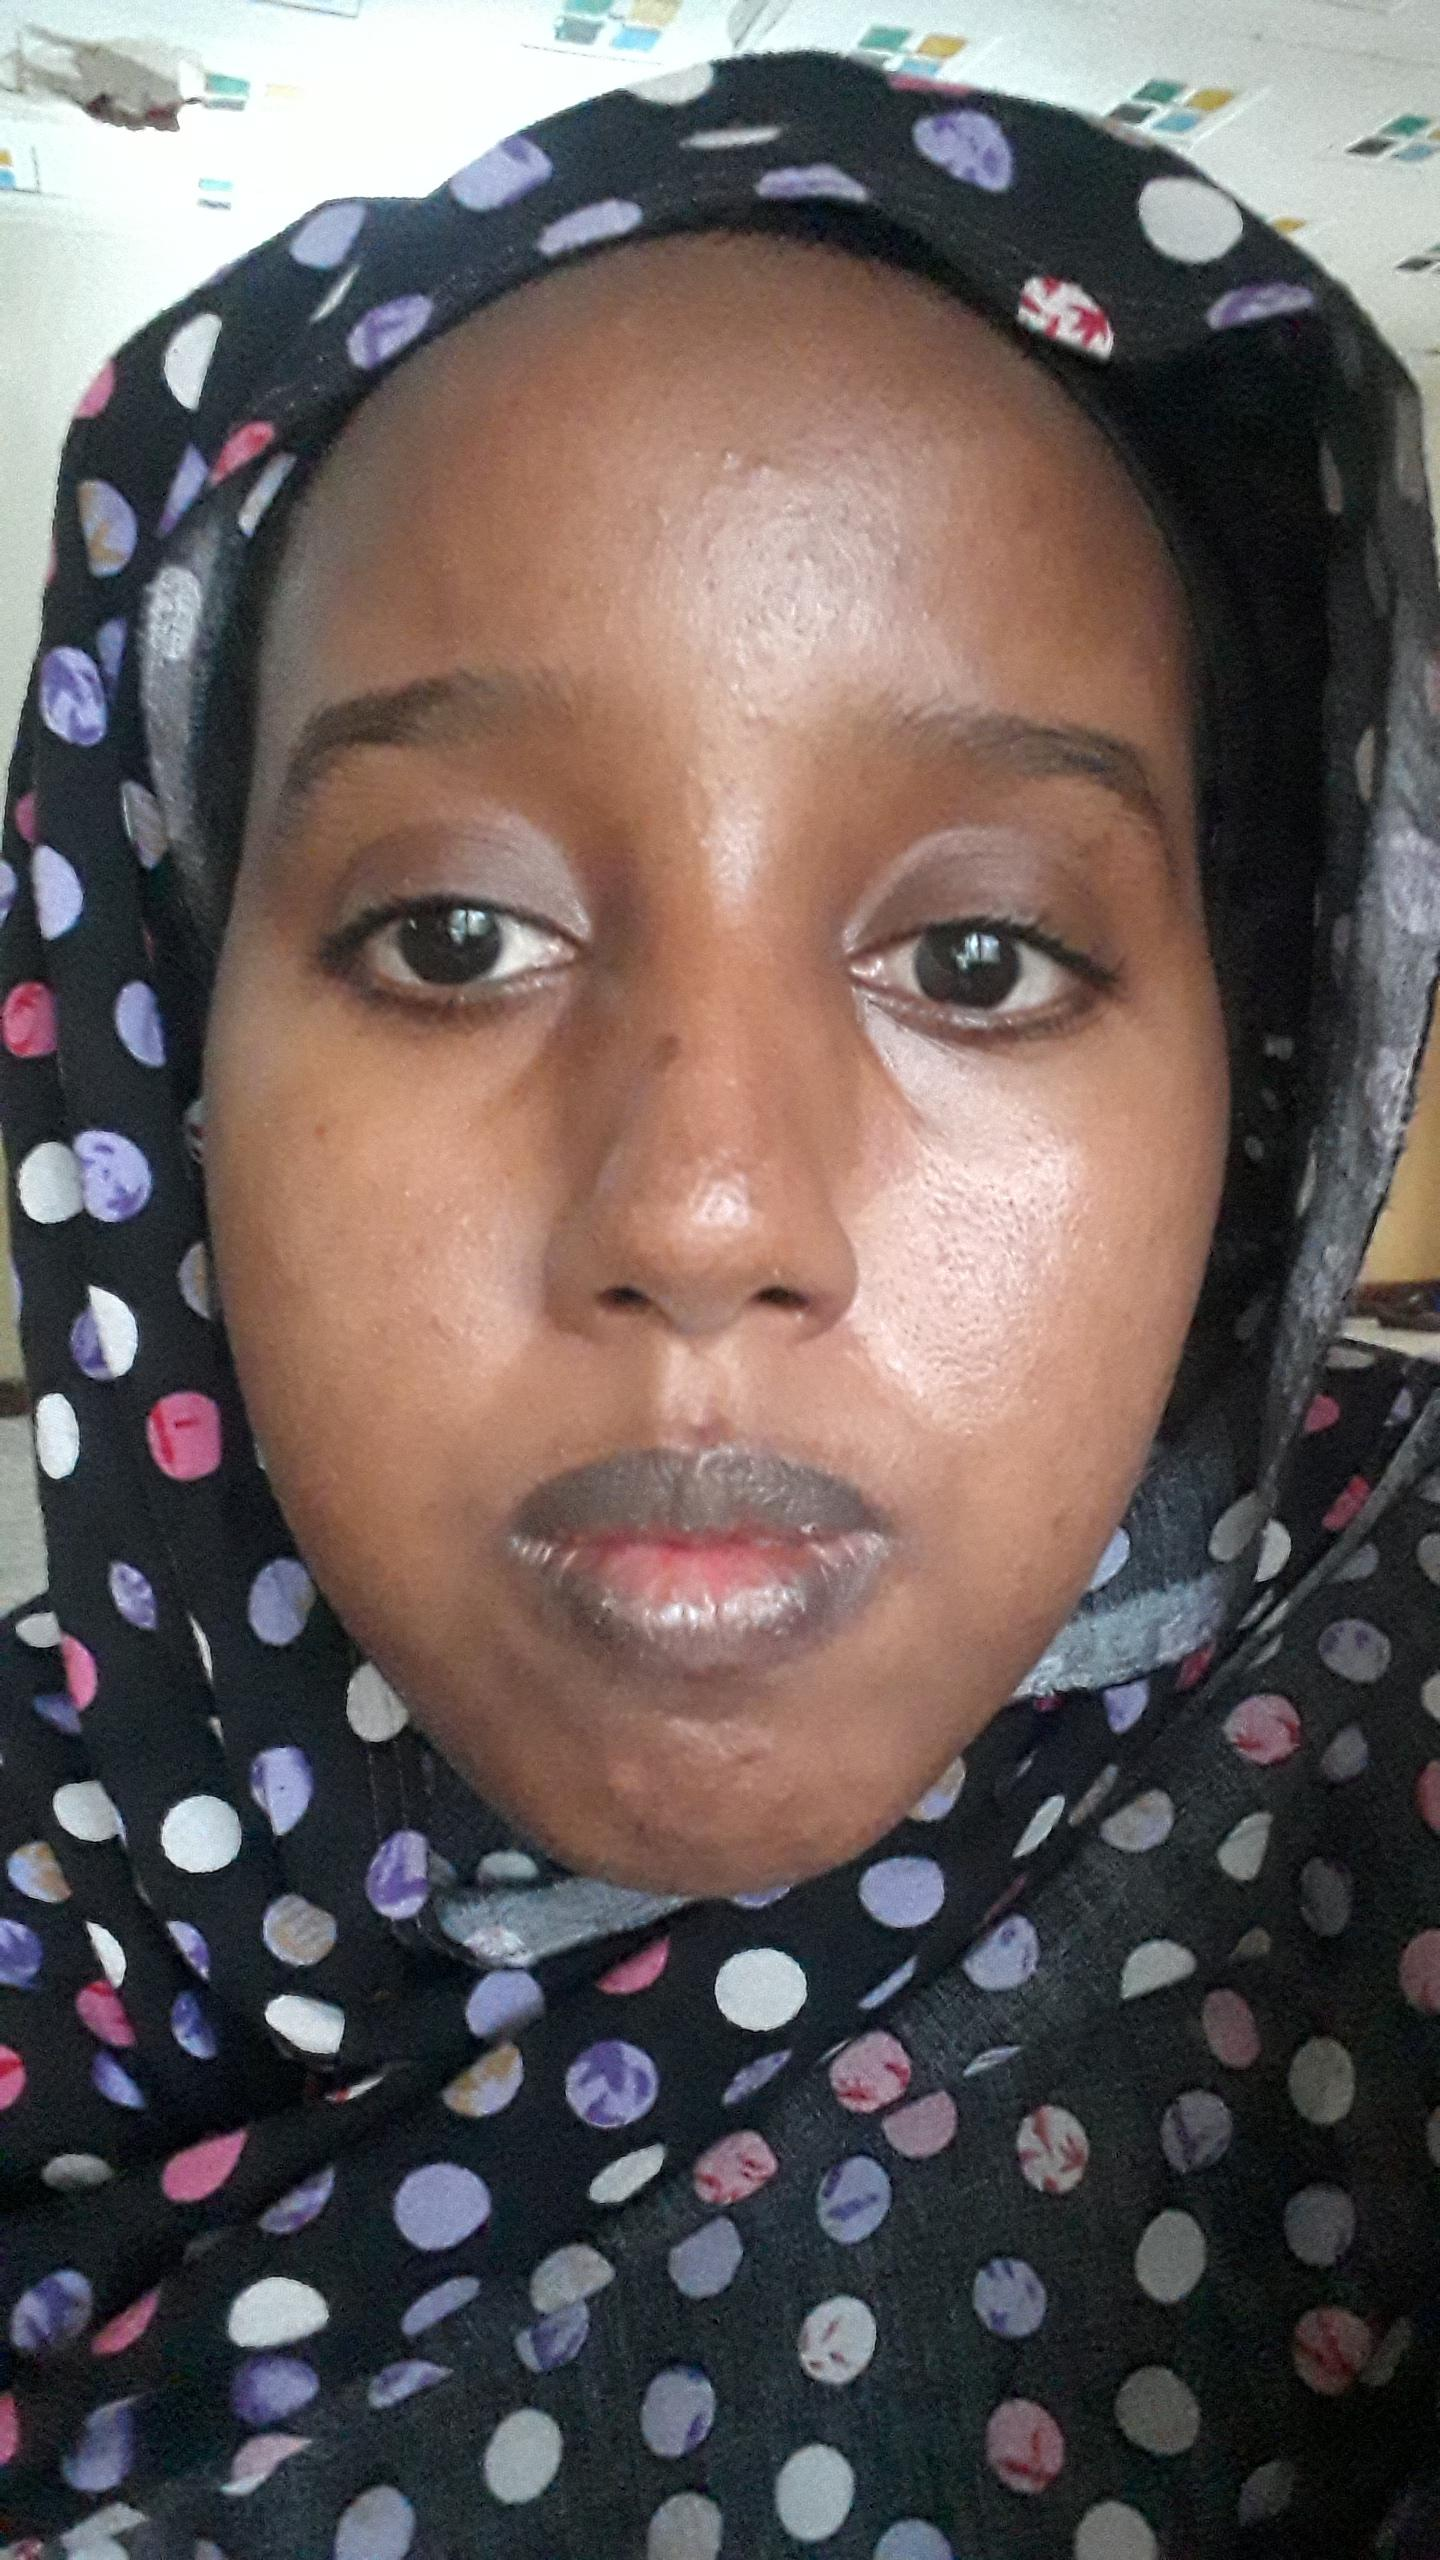Acne: (679, 1405, 735, 1449), (645, 1023, 689, 1080), (591, 1771, 638, 1807), (726, 1741, 772, 1778), (1037, 1496, 1076, 1538), (601, 304, 644, 339), (735, 698, 779, 731), (425, 1310, 457, 1350), (745, 454, 782, 485), (302, 1113, 332, 1150), (695, 832, 719, 870), (712, 440, 742, 469), (631, 1809, 659, 1834), (802, 549, 818, 578)
Englarged-Pores: (877, 1162, 1078, 1387)
